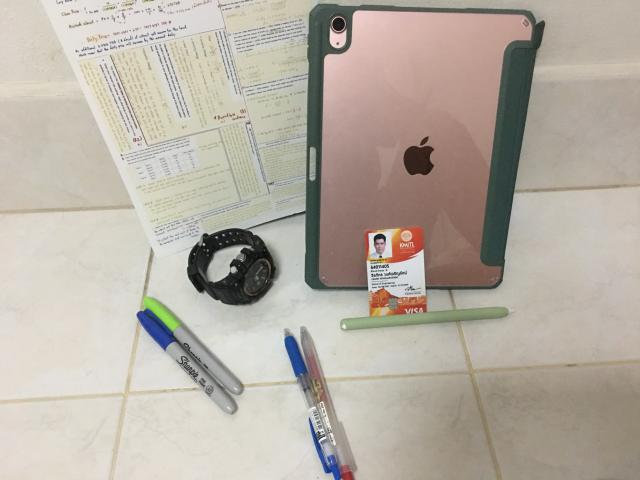Pen: (136, 309, 238, 414), (143, 296, 244, 395), (284, 329, 341, 480), (301, 328, 356, 480)
Watch: (188, 229, 276, 305)
paper: (42, 0, 366, 256)
